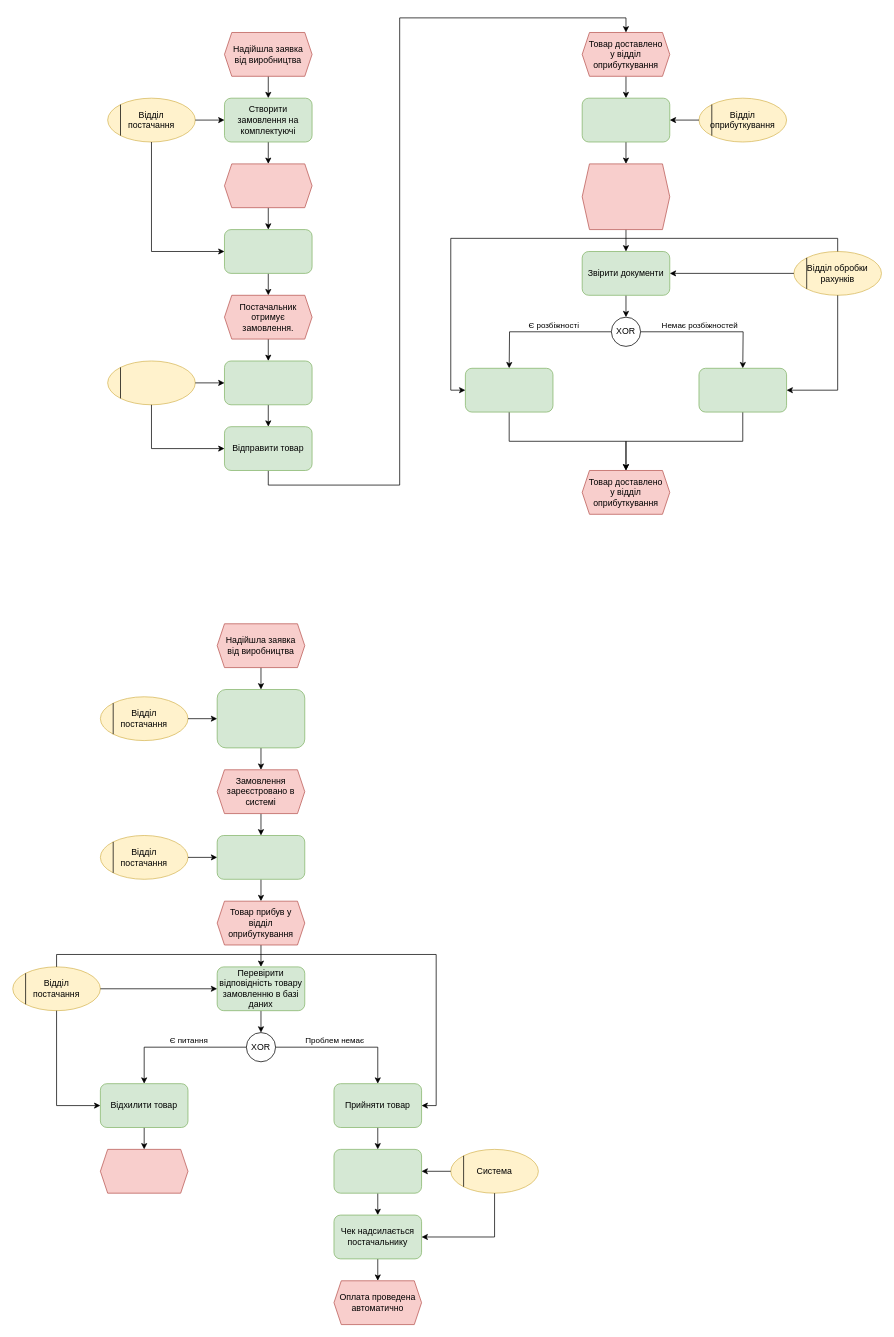
This 894x1337 diagram has some shape labels left out. Each missing label, with the centre of its shape:
Автоматичне створення чеку: the point at 377,1171
Відправити замовлення постачальнику: the point at 268,251
Відправити товар у відділ оприбуткування: the point at 260,857
Відправити інвойс: the point at 268,382
Замовлення створено: the point at 268,185
Здійснити платіж постачальнику: the point at 742,390
З’ясовувати причини, ручне узгодження, затримка: the point at 509,390
Оформити замовлення постачальнику та внести його у базу даних: the point at 260,718
Постачальник: the point at 151,382
Створити бланк опису товару: the point at 625,119
Товар повернуто: the point at 144,1171
У відділ обробки рахунків постачальників надходять 3 документи: the point at 625,196
